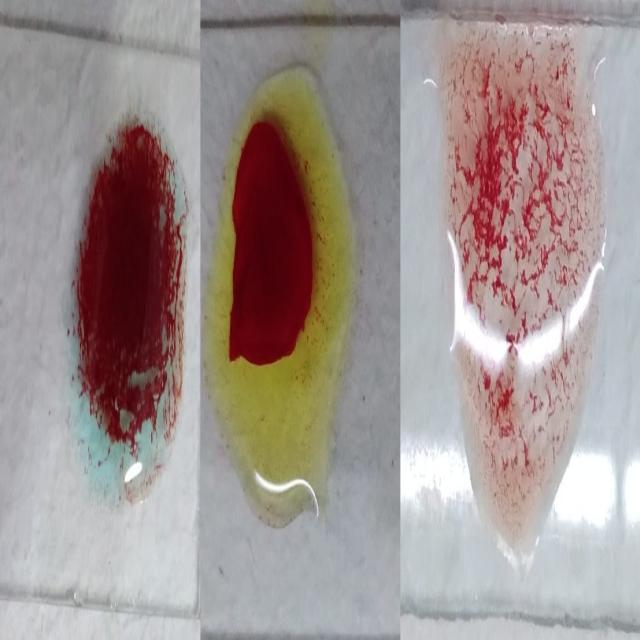A: (54, 100, 190, 508)
B: (207, 69, 357, 526)
D: (438, 22, 598, 589)
